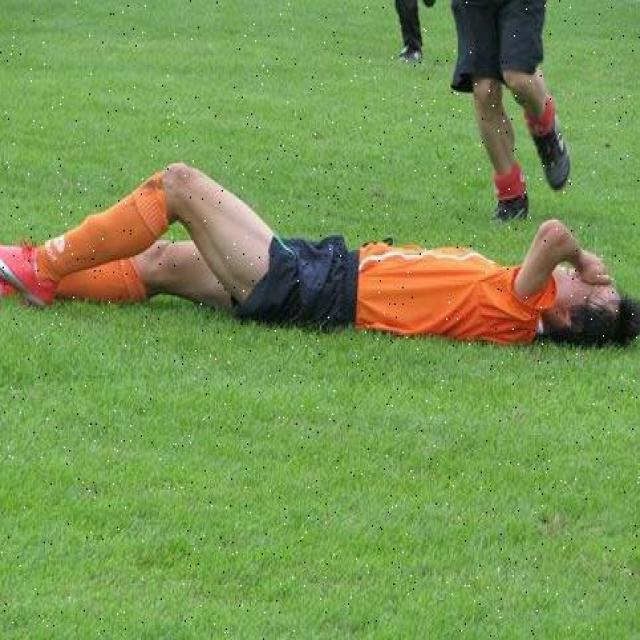fall: (0, 156, 639, 344)
